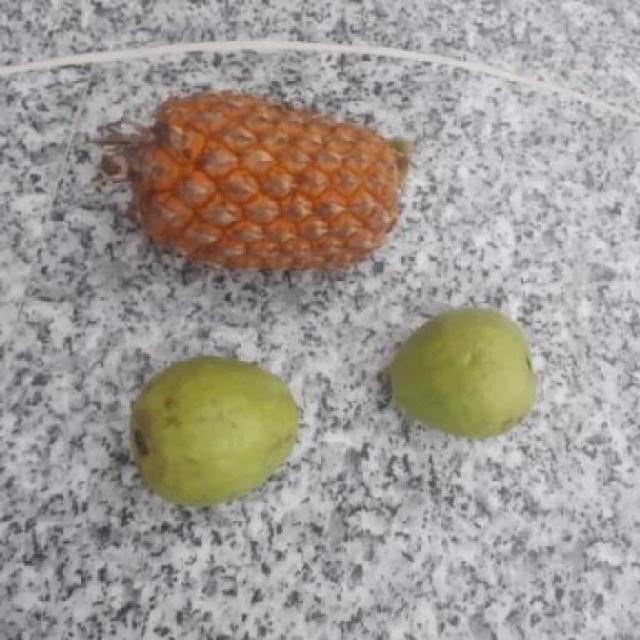guava: (127, 361, 296, 501), (385, 310, 537, 438)
pineapple: (113, 92, 404, 279)
